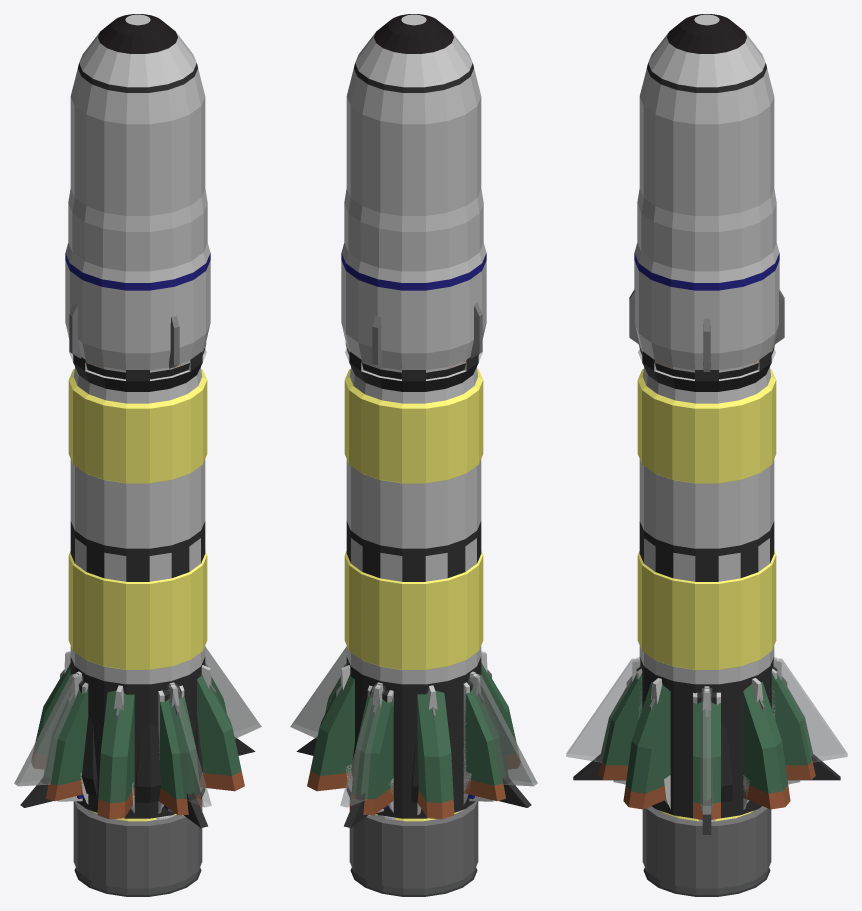
The model's file is rocketBlank.fbx.
The picture shows the model from 3 angles, left to right: view 1: azimuth 30°, elevation 25°; view 2: azimuth 150°, elevation 25°; view 3: azimuth 270°, elevation 25°; orthographic projection.
Parts seen in each view (by area): view 1: Tank_9, Deflector_7, Tank_2, Plumage_5, Deflector_3, Engine_8, Deflector_6, Plumage, Plumage_7, Deflector_10, Plumage_2, Plumage_6 (+3 smaller); view 2: Tank_9, Deflector_7, Tank_2, Plumage_5, Deflector_3, Engine_8, Deflector_6, Plumage, Deflector_10, Plumage_6, Plumage_2, Deflector_8 (+4 smaller); view 3: Tank_9, Tank_2, Deflector_7, Plumage_5, Deflector_3, Engine_8, Deflector_6, Plumage, Deflector_10, Plumage_2, Plumage_6, Deflector_8 (+3 smaller).
Part boxes in pixels (<box>): Tank_9: <box>68,369,207,669</box>; Deflector_7: <box>70,14,205,215</box>; Tank_2: <box>70,367,205,818</box>; Plumage_5: <box>31,663,244,819</box>; Deflector_3: <box>65,243,210,370</box>; Engine_8: <box>73,799,202,896</box>; Deflector_6: <box>68,188,207,271</box>; Plumage: <box>14,646,261,807</box>; Plumage_7: <box>81,715,202,802</box>; Deflector_10: <box>69,349,206,391</box>; Plumage_2: <box>20,737,255,827</box>; Plumage_6: <box>64,651,211,813</box>; Tank_9: <box>344,369,483,669</box>; Deflector_7: <box>346,14,481,215</box>; Tank_2: <box>346,367,481,818</box>; Plumage_5: <box>307,663,520,819</box>; Deflector_3: <box>341,243,486,370</box>; Engine_8: <box>349,799,478,896</box>; Deflector_6: <box>344,188,483,271</box>; Plumage: <box>290,646,537,807</box>; Deflector_10: <box>345,349,482,391</box>; Plumage_6: <box>340,651,487,814</box>; Plumage_2: <box>296,737,531,827</box>; Deflector_8: <box>372,302,482,368</box>; Tank_9: <box>637,369,776,669</box>; Tank_2: <box>639,367,774,818</box>; Deflector_7: <box>639,14,774,215</box>; Plumage_5: <box>598,666,815,819</box>; Deflector_3: <box>634,243,779,370</box>; Engine_8: <box>642,806,771,896</box>; Deflector_6: <box>637,188,776,271</box>; Plumage: <box>566,658,847,814</box>; Deflector_10: <box>638,349,775,391</box>; Plumage_2: <box>573,754,840,834</box>; Plumage_6: <box>632,659,781,809</box>; Deflector_8: <box>629,290,784,371</box>.
Size of the model in its own units: 448 by 1496 by 448.
